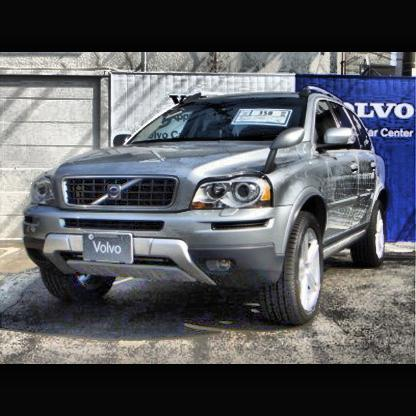Volvo XC90 SUV 2007: (23, 88, 387, 322)
